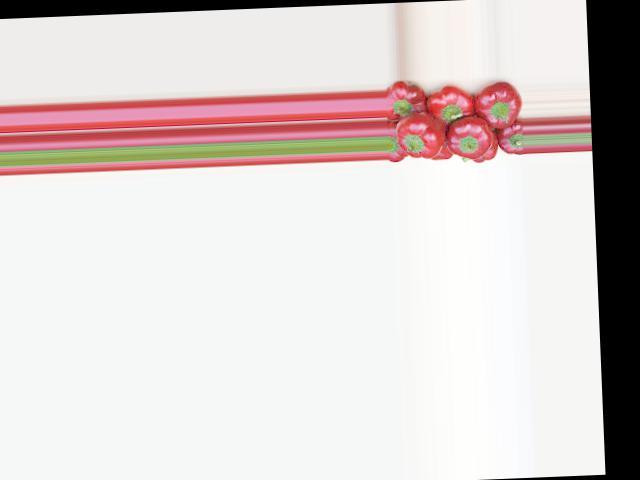bell_pepper: (433, 142, 453, 162)
